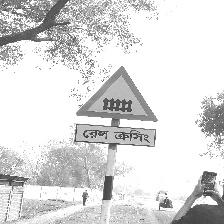Rail-crossing: (76, 68, 159, 152)
